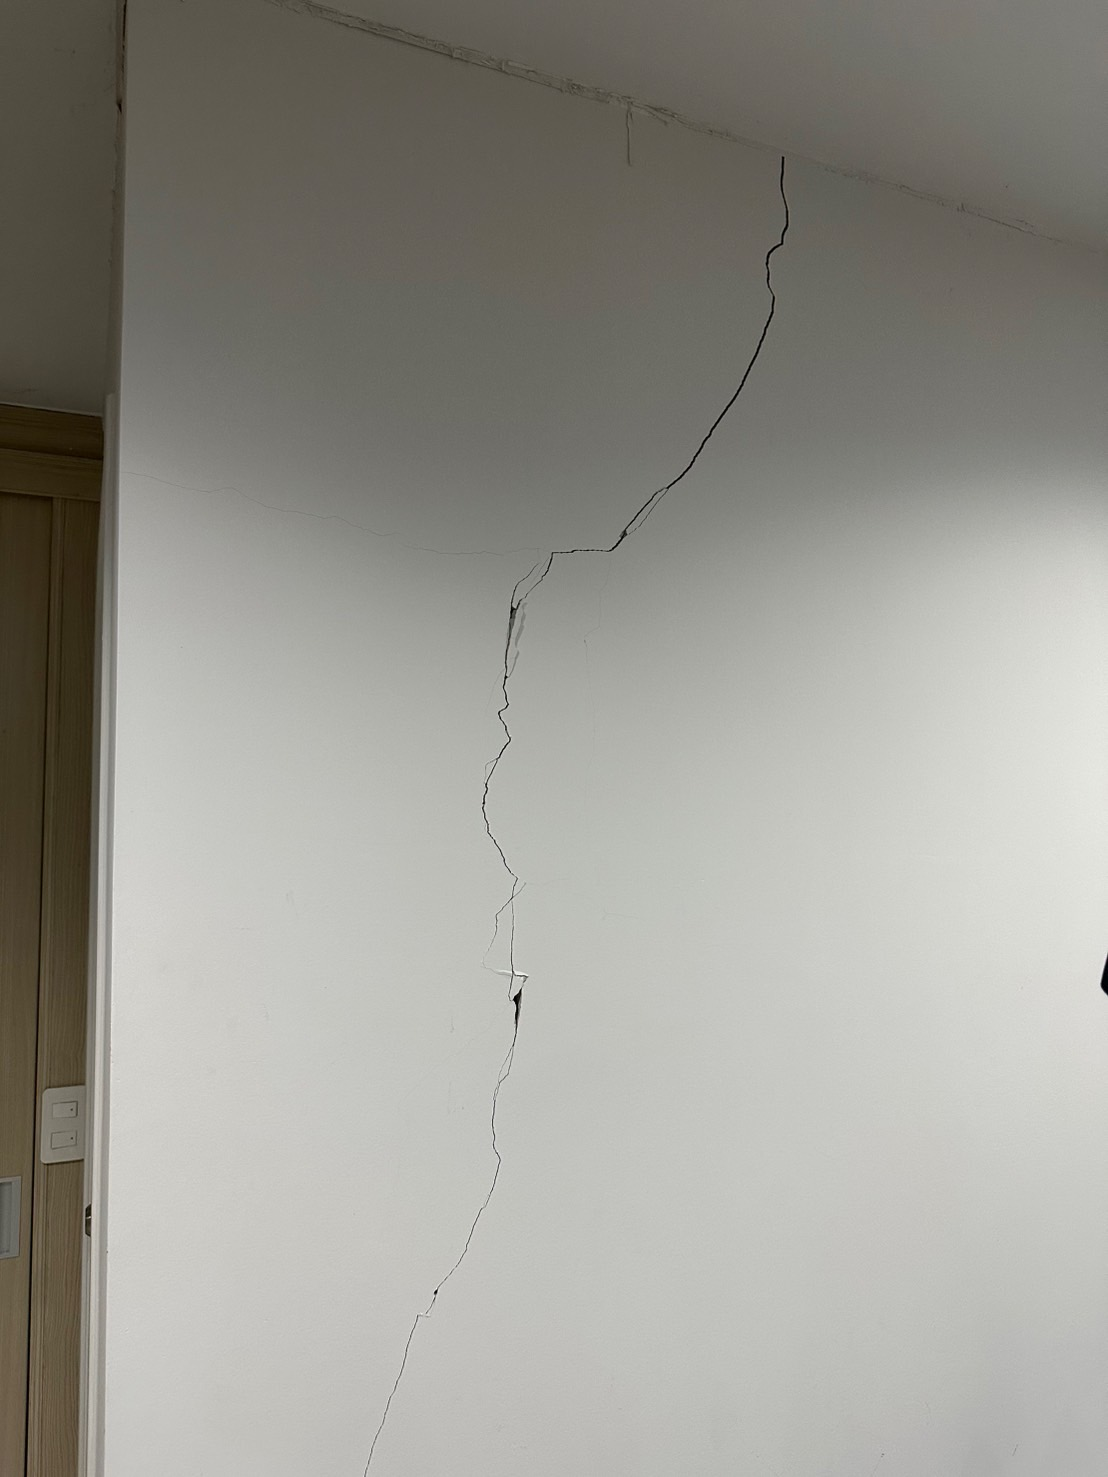Medium: (464, 156, 818, 1202)
